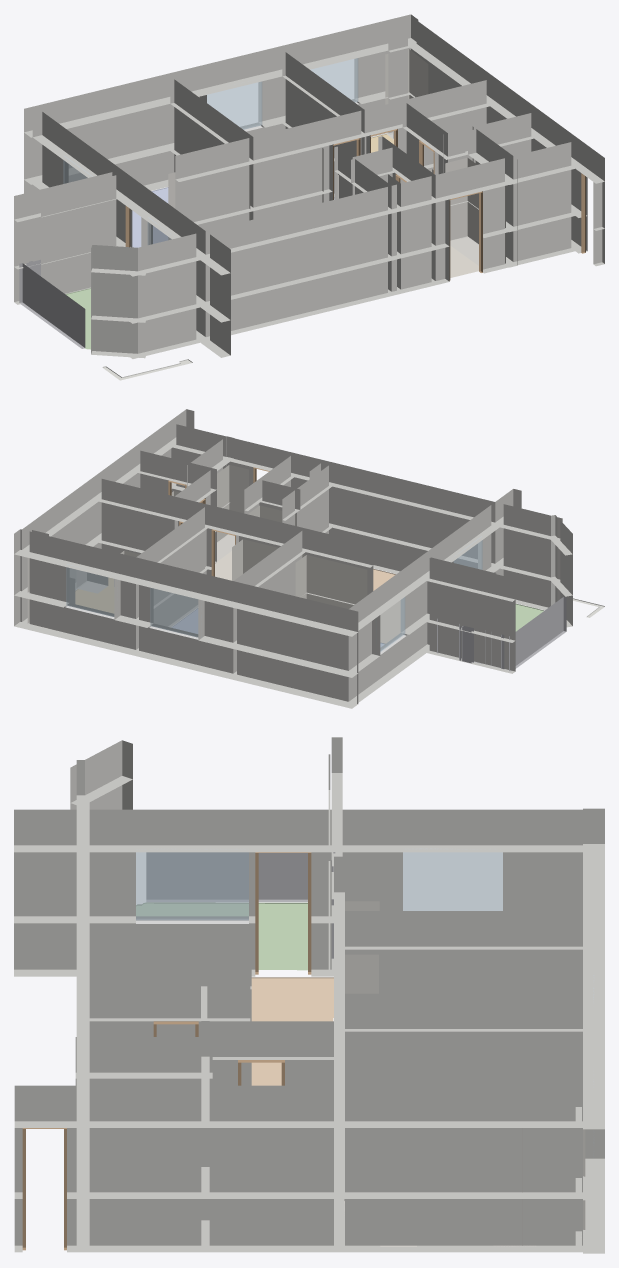
3 views of the same model, one above another, from view 1: azimuth 30°, elevation 25°; view 2: azimuth 150°, elevation 25°; view 3: azimuth 270°, elevation 25° (orthographic). The views are drawn at different scales.
Parts seen in each view (by area): view 1: walls, railings, furniture_4_closet, window_0, window_1, furniture_0_closet, floor_0_Bed_Room, floor_8_Outdoor, floor_2_Entry, door_4; view 2: walls, furniture_1_closet, railings, window_1, window_0, furniture_4_closet, furniture_2_closet, window_3, floor_1_Living_Room, floor_4_Kitchen, furniture_7_appliance, window_10 (+1 smaller); view 3: walls, window_10, railings, window_3, floor_8_Outdoor, floor_1_Living_Room, furniture_2_closet, door_2, door_11, sill_10.
Part boxes in pixels (x1,y1,x2,y2): walls: (14, 14, 604, 358); railings: (19, 259, 85, 348); furniture_4_closet: (445, 157, 505, 265); window_0: (207, 81, 262, 129); window_1: (310, 58, 358, 102); furniture_0_closet: (385, 49, 428, 139); floor_0_Bed_Room: (132, 187, 168, 247); floor_8_Outdoor: (65, 288, 90, 349); floor_2_Entry: (450, 246, 478, 277); door_4: (449, 191, 482, 280); walls: (14, 409, 572, 708); furniture_1_closet: (295, 555, 367, 608); railings: (437, 597, 566, 671); window_1: (66, 564, 114, 616); window_0: (150, 588, 201, 637); furniture_4_closet: (217, 465, 248, 561); furniture_2_closet: (232, 539, 304, 580); window_3: (376, 597, 405, 651); floor_1_Living_Room: (373, 569, 400, 643); floor_4_Kitchen: (75, 578, 113, 613); furniture_7_appliance: (76, 570, 107, 593); window_10: (453, 536, 482, 569); walls: (14, 737, 604, 1253); window_10: (136, 852, 248, 920); railings: (146, 852, 335, 958); window_3: (403, 848, 502, 910); floor_8_Outdoor: (136, 902, 307, 970); floor_1_Living_Room: (251, 977, 333, 1085); furniture_2_closet: (345, 954, 378, 993); door_2: (255, 852, 311, 974); door_11: (22, 1128, 66, 1250); sill_10: (136, 918, 248, 923).
Bounding box in the file's own units: 12.89 × 2.72 × 9.04.
